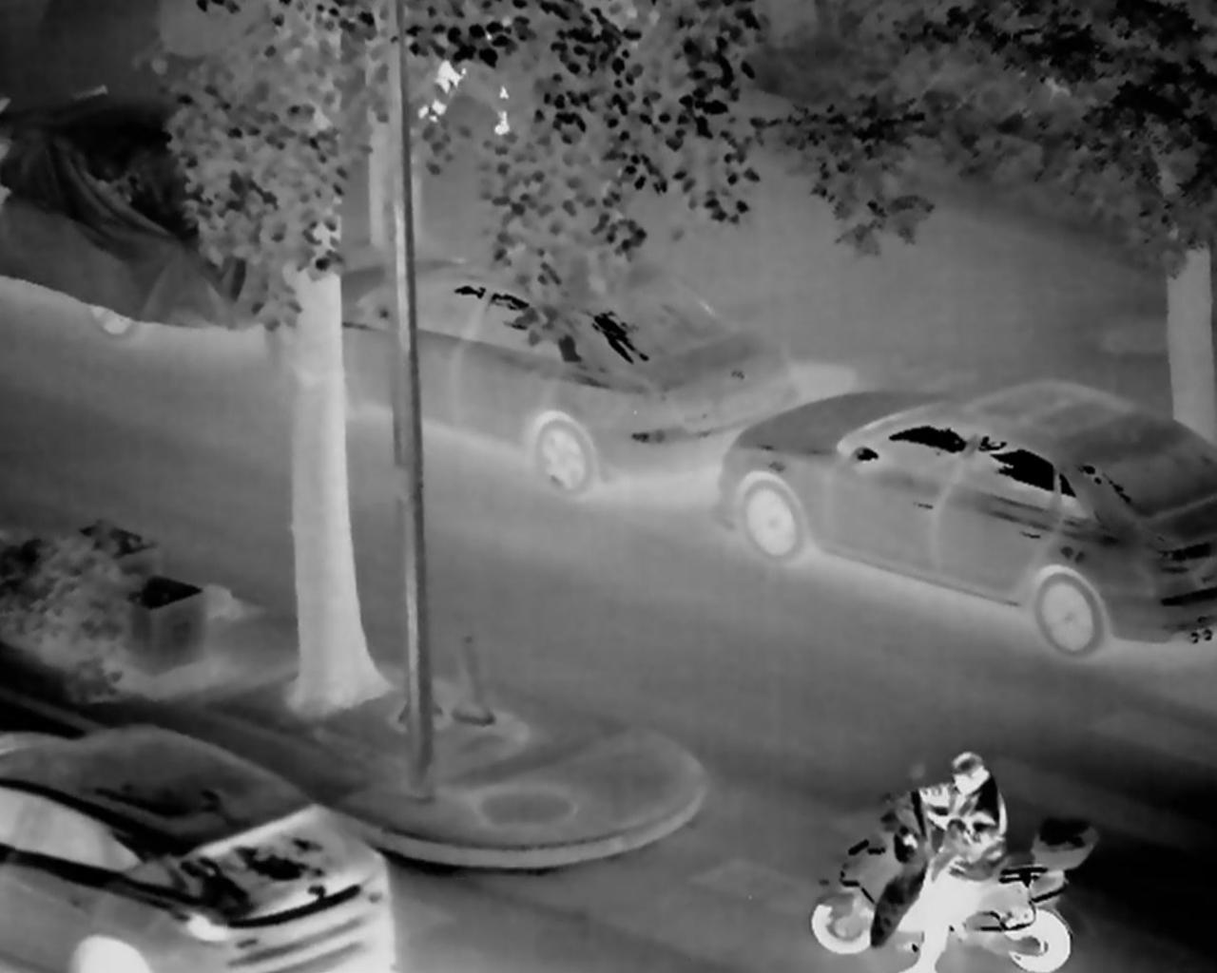person: (906, 737, 1015, 973), (417, 37, 530, 145)
